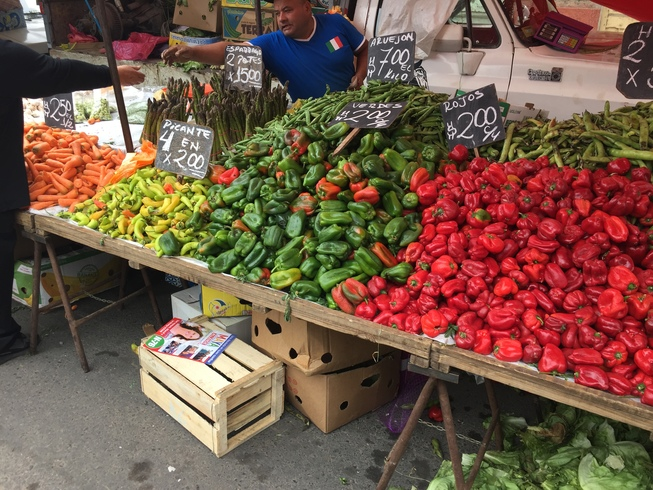precio: (439, 84, 504, 154), (157, 114, 219, 185), (364, 34, 425, 89), (333, 95, 408, 138), (223, 40, 276, 90), (42, 88, 79, 133)
